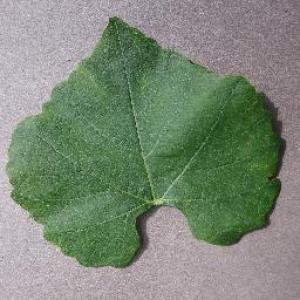Folha: (5, 15, 282, 268)
